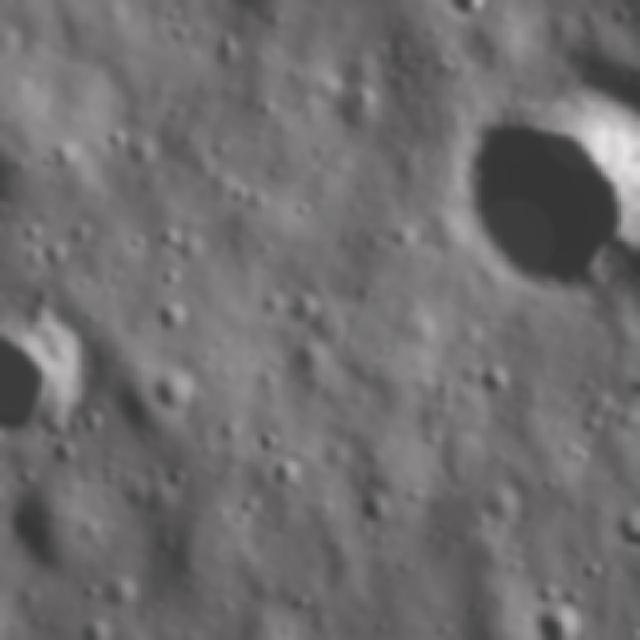crater: (430, 73, 633, 298), (4, 304, 93, 450), (152, 368, 212, 424), (468, 345, 520, 401), (524, 603, 584, 640), (570, 552, 608, 583), (290, 292, 324, 325)
